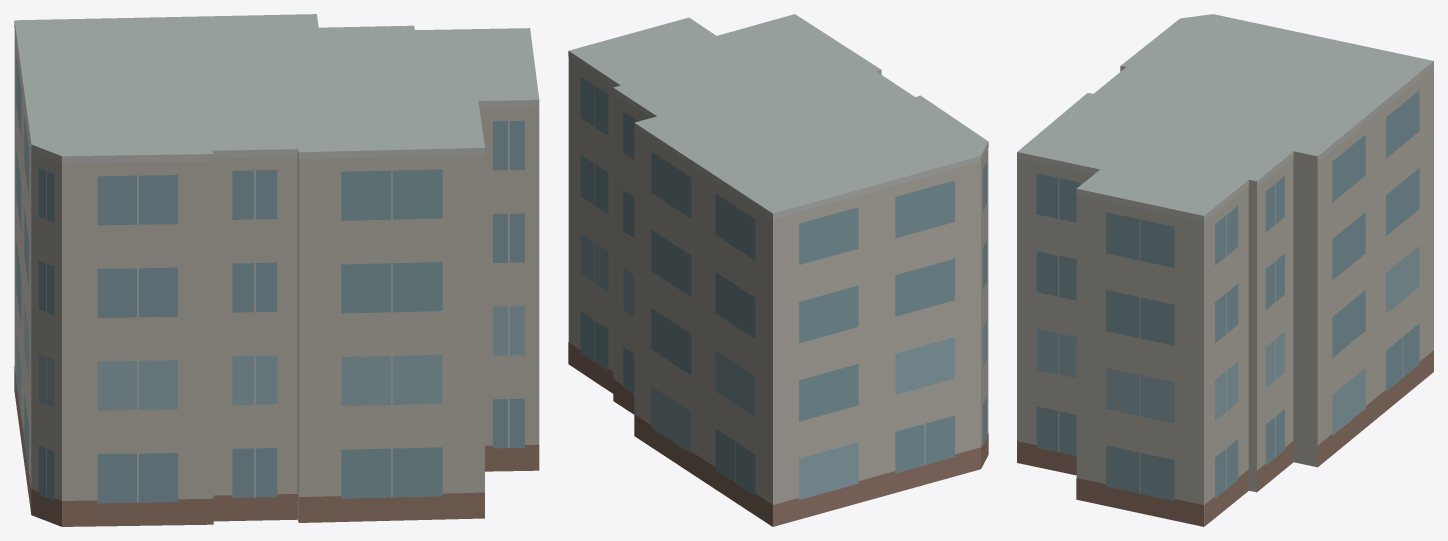
The model's file is survey-upis-32462444.glb.
3 renders of one model, left to right at view 1: azimuth 30°, elevation 25°; view 2: azimuth 150°, elevation 25°; view 3: azimuth 270°, elevation 25°, orthographic. The views are drawn at different scales.
Parts seen in each view (by area): view 1: survey-upis-32462444.tmp; view 2: survey-upis-32462444.tmp; view 3: survey-upis-32462444.tmp.
Boxes of the visible parts, x1=… form: survey-upis-32462444.tmp: x1=14, y1=14, x2=539, y2=526; survey-upis-32462444.tmp: x1=568, y1=14, x2=988, y2=526; survey-upis-32462444.tmp: x1=1017, y1=14, x2=1433, y2=526.
Bounding box in the file's own units: 17.84 × 12.8 × 15.56.
